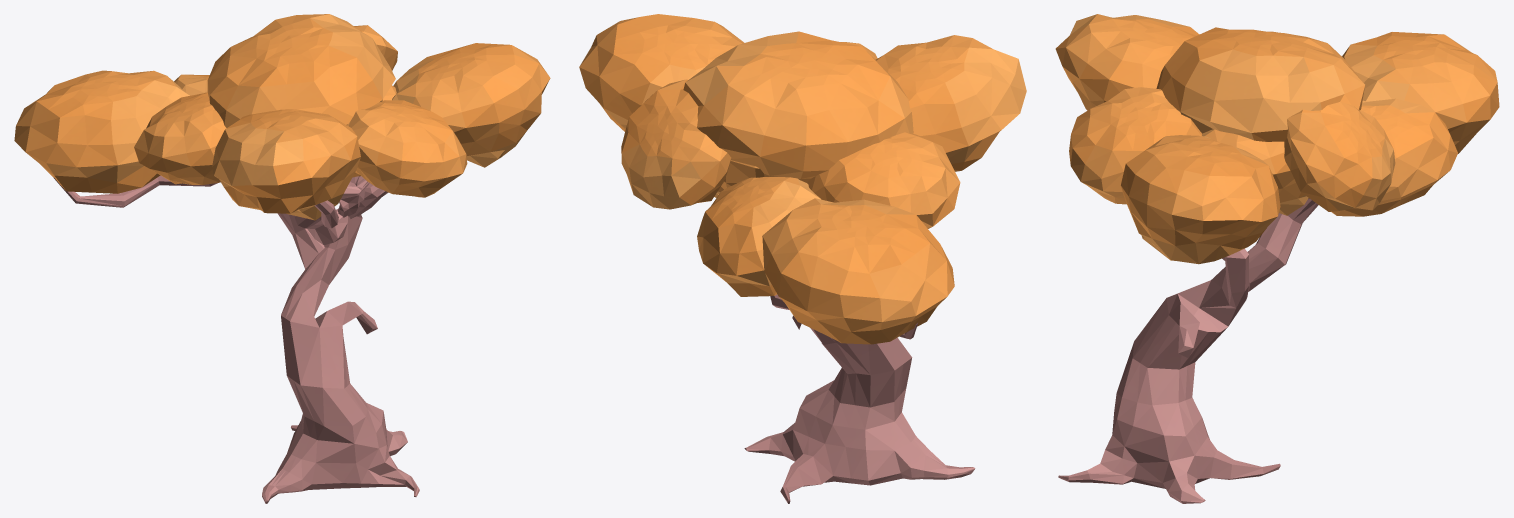
File: tree_2_c.obj
3 views of the same model, side by side, from view 1: azimuth 30°, elevation 25°; view 2: azimuth 150°, elevation 25°; view 3: azimuth 270°, elevation 25° (orthographic). The views are drawn at different scales.
Visible parts, largest first — view 1: crown_2_c_Material, trunk_2_c_Material; view 2: crown_2_c_Material, trunk_2_c_Material; view 3: crown_2_c_Material, trunk_2_c_Material.
Part boxes in pixels (box(x1,y1,x2,y2)): crown_2_c_Material: box(14, 14, 550, 220); trunk_2_c_Material: box(53, 175, 419, 503); crown_2_c_Material: box(579, 14, 1026, 344); trunk_2_c_Material: box(744, 294, 975, 503); crown_2_c_Material: box(1055, 14, 1499, 264); trunk_2_c_Material: box(1058, 198, 1318, 503).
Size of the model in its own units: 4.75 by 4.32 by 4.05.
